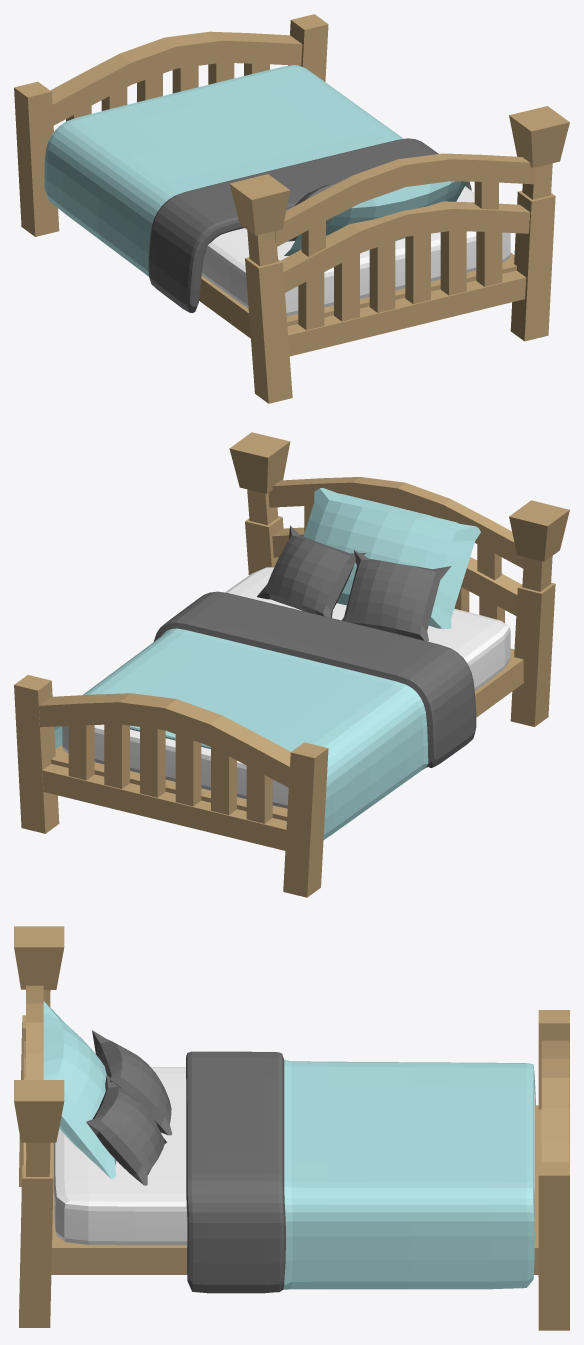
Rendered from bed.glb.
3 views of the same model, one above another, from view 1: azimuth 30°, elevation 25°; view 2: azimuth 150°, elevation 25°; view 3: azimuth 270°, elevation 25° (orthographic). The views are drawn at different scales.
Visible parts, largest first — view 1: Bed frame, Bed, Pillow; view 2: Bed frame, Bed, Pillow; view 3: Bed, Bed frame, Pillow.
Part boxes in pixels (<box>): Bed frame: <box>14,14,569,403</box>; Bed: <box>44,65,510,316</box>; Pillow: <box>284,156,486,255</box>; Bed frame: <box>14,432,569,897</box>; Bed: <box>54,567,510,839</box>; Pillow: <box>257,481,486,641</box>; Bed: <box>53,1051,535,1293</box>; Bed frame: <box>14,926,569,1330</box>; Pillow: <box>43,1001,172,1185</box>.
Size of the model in its own units: 2.66 by 1.69 by 3.56.
